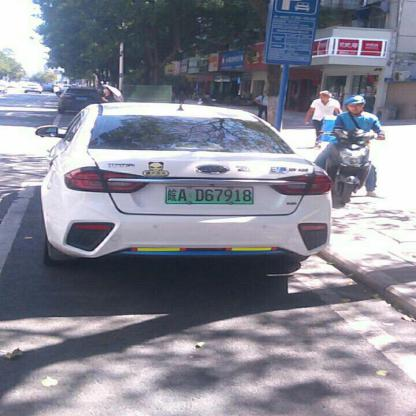lp: (166, 185, 253, 202)
